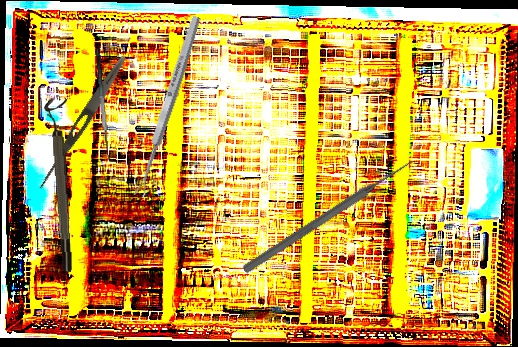Dressing Forceps: (34, 53, 130, 194)
Fixation Ring: (43, 97, 76, 273)
Pusher: (240, 155, 418, 276)
Spatula Surgical: (94, 47, 118, 163)
Surgical Spoon: (132, 14, 203, 199)
